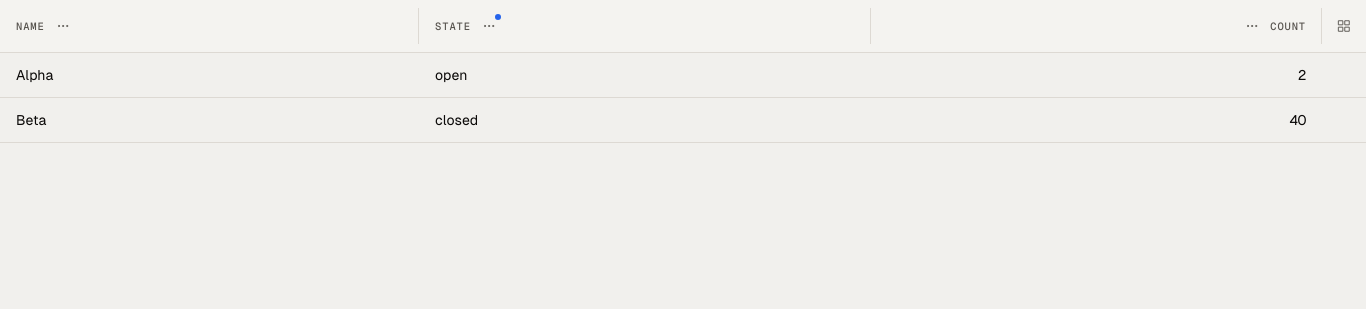
Scenario: the column menu › opens the column's own filter
Click the button with test id "t-col-state" at (489, 26), box [475, 12, 503, 40]
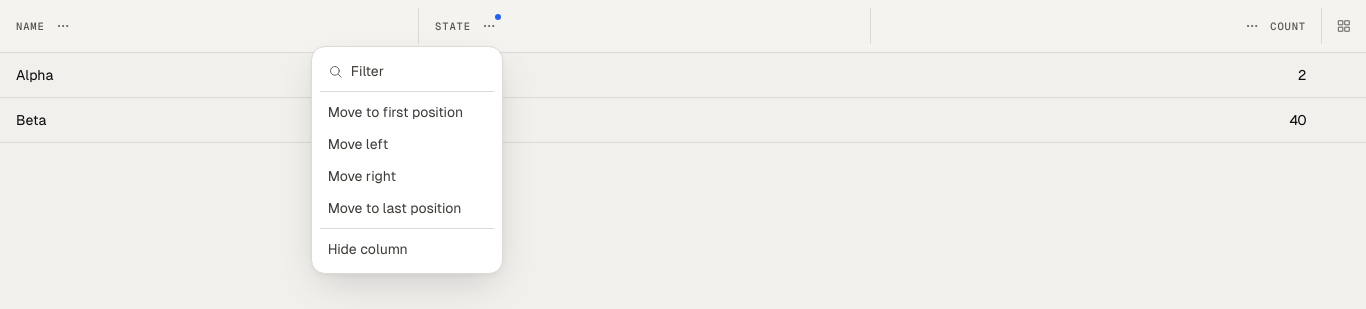
Click the menu item "Filter" at (407, 71), box [320, 55, 494, 87]
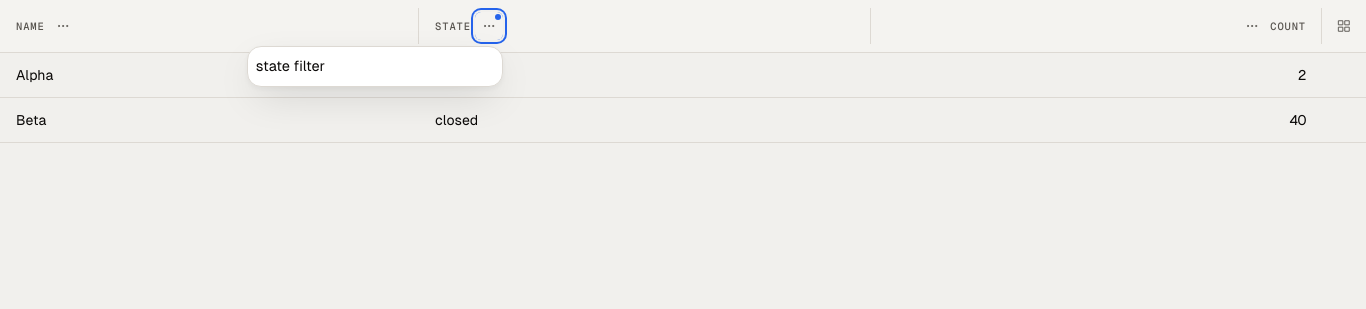
Result: the text "state filter" is shown at [256, 58, 325, 74]
